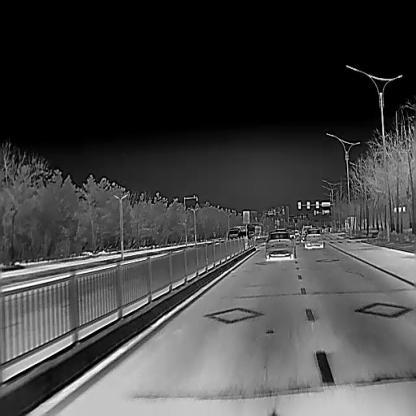car: (265, 230, 294, 260), (304, 228, 323, 249), (300, 224, 316, 245), (227, 224, 247, 240), (293, 228, 303, 243), (236, 231, 249, 242), (286, 231, 295, 244), (285, 224, 294, 234), (247, 230, 253, 236)
